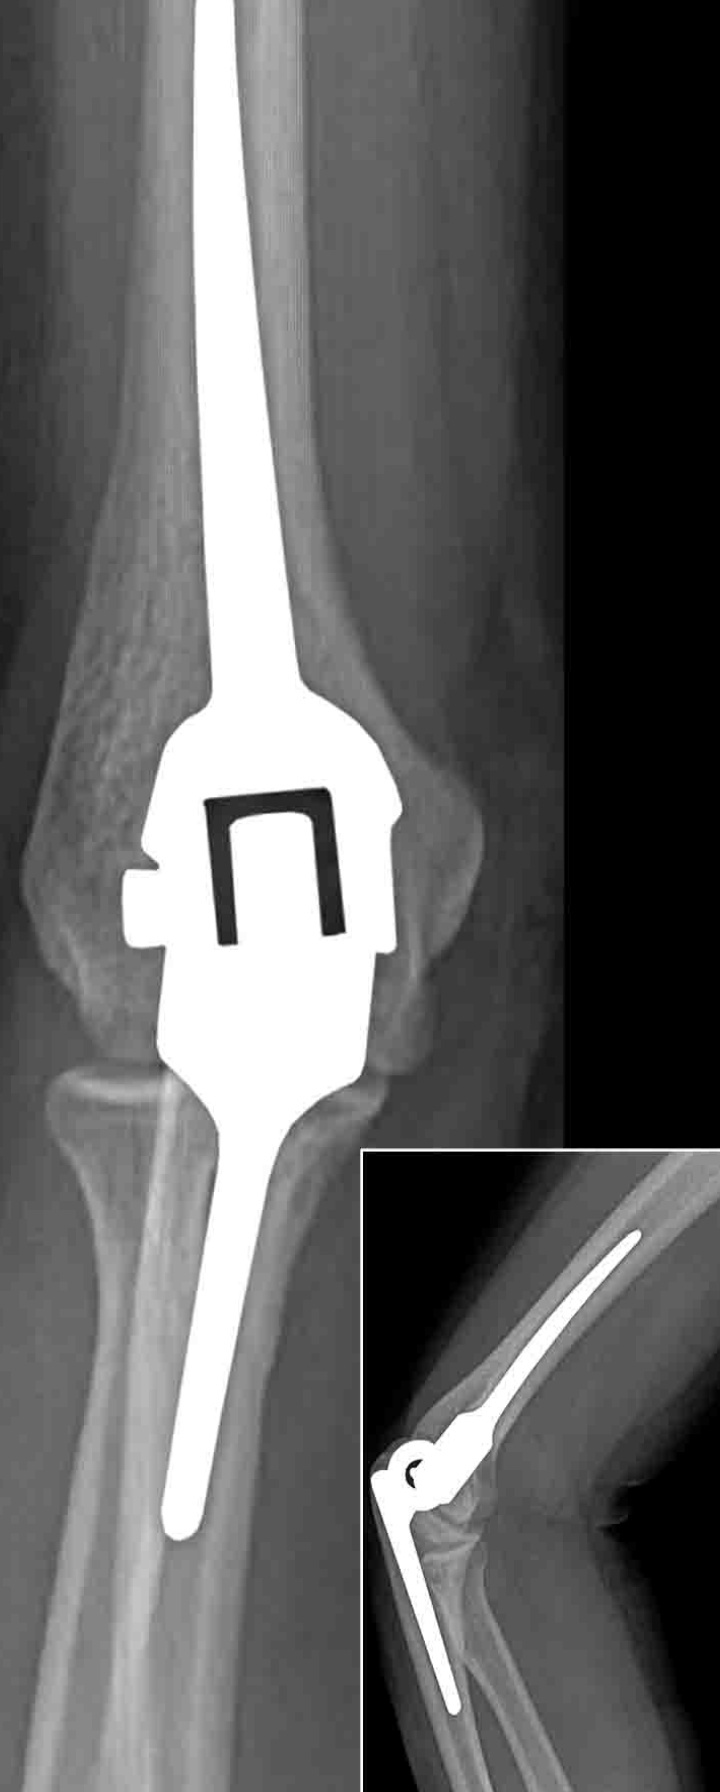Elbow - Osteonics - Stryker: (74, 2, 406, 1423), (363, 1163, 688, 1754)
